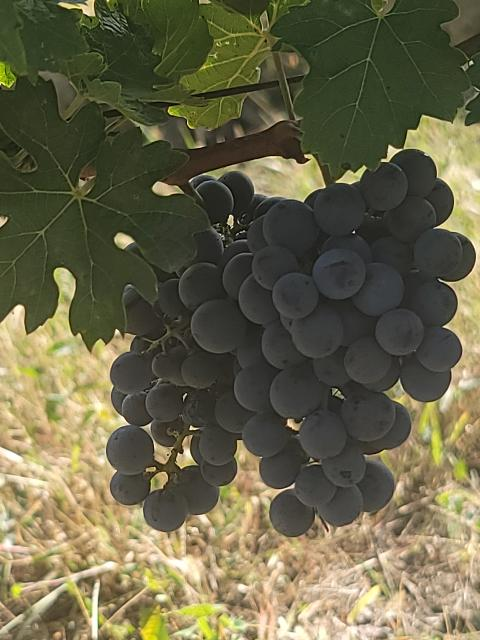grapes: (222, 150, 475, 535), (109, 171, 254, 531)
